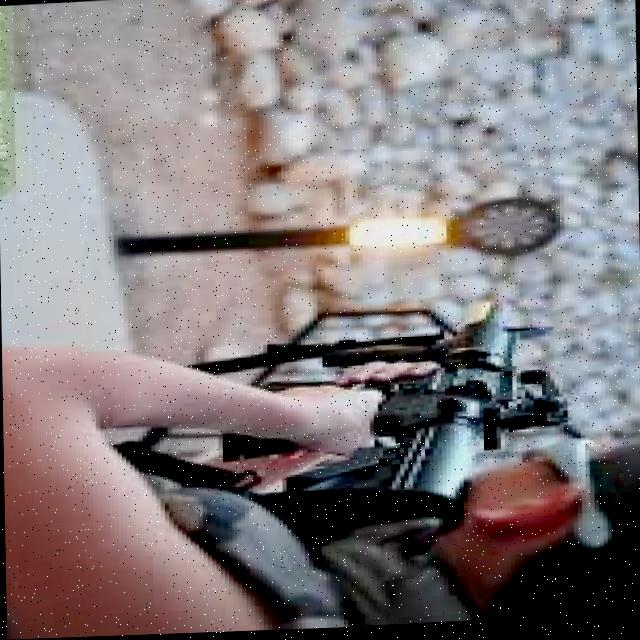firearm: (216, 304, 576, 535)
